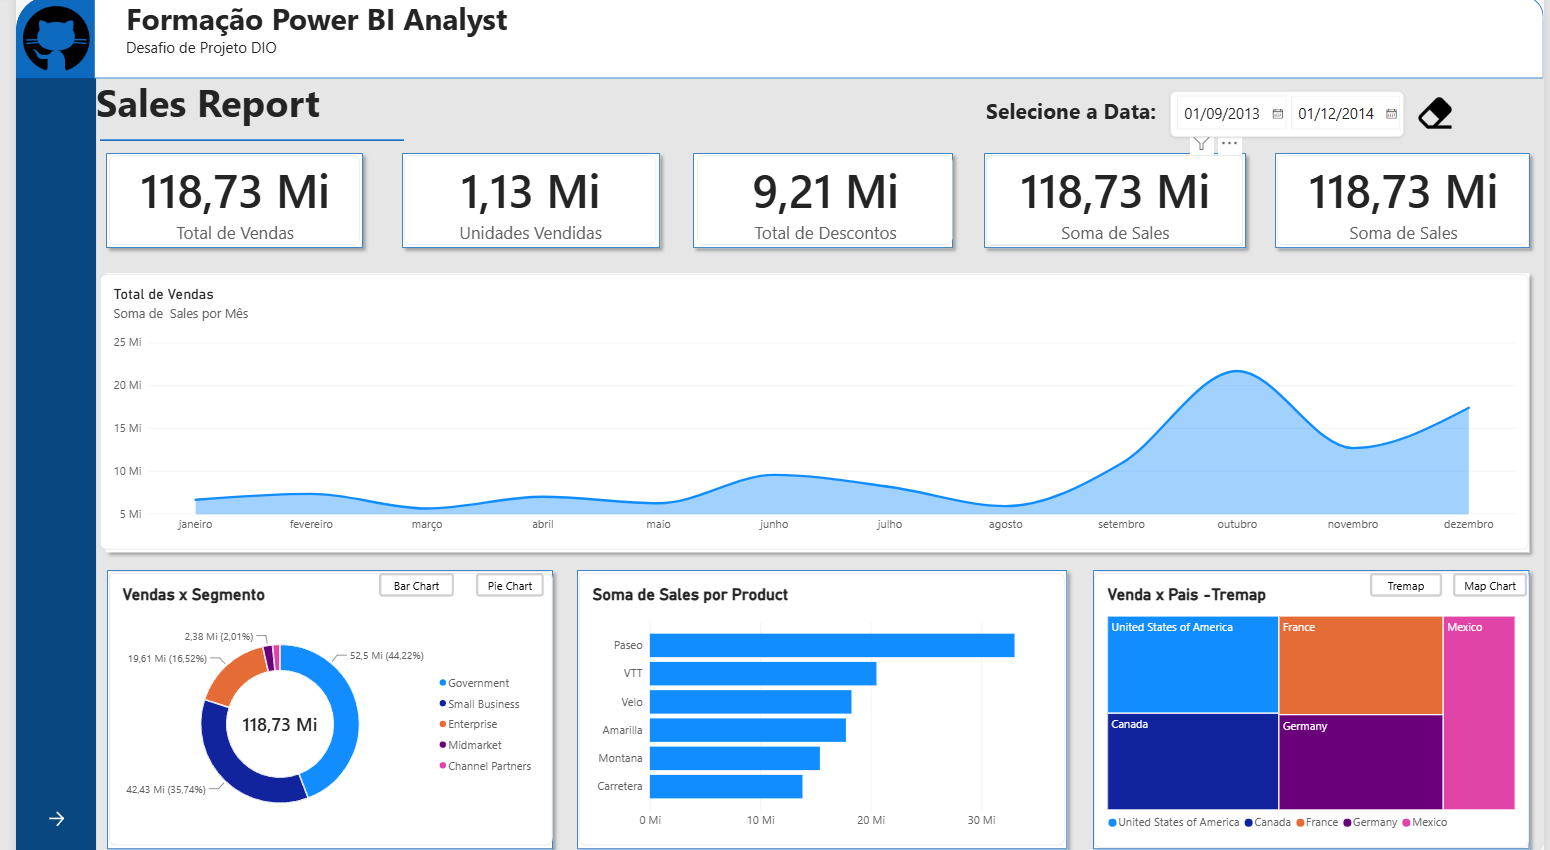

Layout of this report page (visuals, bound fields, positions):
{"tool":"powerbi","page":{"name":"Página 1","canvas":[1920,1080],"ordinal":0},"visuals":[{"type":"shape","title":"fundo","box":[0,0,1920,1080.3],"z":0},{"type":"actionButton","box":[1750.4,120.6,62.3,55.7],"z":0,"group":"g2"},{"type":"shape","box":[104,189.2,340.4,137],"z":0,"group":"g1"},{"type":"shape","box":[106.1,98.7,381.6,163.6],"z":1000},{"type":"image","box":[1757,122,50.4,51.7],"z":1000,"group":"g2"},{"type":"shape","box":[475.3,188.6,341.9,137],"z":1000,"group":"g1"},{"type":"clusteredBarChart","title":"Vendas por Segmento","fields":{"Category":["financials.Segment"],"Y":["Sum(financials. Sales)"]},"box":[116.6,722.2,556.5,341.9],"z":1000,"group":"g4"},{"type":"map","title":"Total de vendas por País","fields":{"Category":["financials.Country"],"Size":["Sum(financials. Sales)"]},"box":[1354.2,722.2,545.9,344.5],"z":1500,"group":"g3"},{"type":"treemap","title":"Venda x Pais -Tremap","fields":{"Group":["financials.Country"],"Values":["Sum(financials. Sales)"]},"box":[1354.2,725,545.9,344.5],"z":1750,"group":"g3"},{"type":"shape","title":"barra lateral","box":[0,0,100.9,1077.7],"z":2000},{"type":"slicer","fields":{"Values":["financials.Date"]},"box":[1448.3,119.3,294.2,58.3],"z":2000,"group":"g2"},{"type":"shape","box":[841.7,188.6,344.2,137.1],"z":2000,"group":"g1"},{"type":"actionButton","title":"Botão - tremap","box":[1701.4,724.6,90.6,29.8],"z":2000,"group":"g3"},{"type":"donutChart","title":"Vendas x Segmento","fields":{"Category":["financials.Segment"],"Y":["Sum(financials. Sales)"]},"box":[116.4,725,556.5,341.9],"z":2000,"group":"g4"},{"type":"actionButton","title":"Botão - pie chart","box":[577.6,725,85.4,29.8],"z":2250,"group":"g4"},{"type":"actionButton","title":"Botão - bar chart","box":[455.3,725,94.4,29.8],"z":2500,"group":"g4"},{"type":"textbox","box":[1217.7,125.9,229.2,43.7],"z":3000,"group":"g2"},{"type":"shape","box":[1206.5,188.6,346.7,137.1],"z":3000,"group":"g1"},{"type":"shape","box":[104.6,338.9,1805.1,368.4],"z":3000},{"type":"actionButton","title":"Botão - map","box":[1804.9,724.6,93.2,29.8],"z":3000,"group":"g3"},{"type":"shape","title":"logo","box":[0,0,100.9,103.5],"z":4000},{"type":"shape","box":[1572.7,188.6,337.7,137.1],"z":4000,"group":"g1"},{"type":"shape","box":[106,711.6,577.7,368.4],"z":5000},{"type":"image","box":[5.2,5.2,90.6,98.3],"z":6000},{"type":"shape","box":[695.7,711.6,633.4,368.4],"z":7000},{"type":"shape","title":"barra superior","box":[98.3,0,1820.4,103.5],"z":8000},{"type":"shape","box":[1343.6,711.6,565.8,368.4],"z":9000},{"type":"textbox","box":[138.5,2.9,481.8,97.3],"z":10000},{"type":"group","id":"g1","title":"Formas","box":[104,188.6,1806.3,137.6],"z":11000},{"type":"textbox","box":[100.2,100.2,299.1,76.6],"z":12000},{"type":"areaChart","title":"Total de Vendas","fields":{"Category":["financials.Date.Variation.Hierarquia de datas.Mês"],"Y":["Sum(financials. Sales)"]},"box":[106,348.5,1794.1,345.8],"z":13000},{"type":"cardVisual","title":"Cartão total vendas","fields":{"Data":["Sum(financials. Sales)"]},"box":[116.6,200.1,315.4,114],"z":14000},{"type":"cardVisual","fields":{"Data":["Sum(financials.Units Sold)"]},"box":[487.6,200.1,316.7,114],"z":15000},{"type":"cardVisual","fields":{"Data":["Sum(financials.Discounts)"]},"box":[854.7,200.1,322,114],"z":16000},{"type":"cardVisual","fields":{"Data":["Sum(financials. Sales)"]},"box":[1217.7,200.1,323.3,114],"z":17000},{"type":"cardVisual","fields":{"Data":["Sum(financials. Sales)"]},"box":[1583.4,200.1,316.7,114],"z":18000},{"type":"clusteredBarChart","fields":{"Category":["financials.Product"],"Y":["Sum(financials. Sales)"]},"box":[707.6,724.8,609.5,341.9],"z":19000},{"type":"group","id":"g2","title":"Filtro por data","box":[1217.7,119.3,594.9,58.3],"z":20000},{"type":"actionButton","box":[27.2,1013,45.3,40.1],"z":21000},{"type":"group","id":"g3","title":"Vendas x País","box":[1354.2,722.2,546,347.3],"z":26000},{"type":"group","id":"g4","title":"Vendas x Segmento","box":[116.4,722.2,556.7,344.7],"z":27000}]}

Visuals, with their boxes on the page's 1920x1080 design canvas (x1, y1, x2, y2). These are canvas units, not pixel positions in the 1550x850 screenshot, which may show the page scaled, cropped or inside an application window:
"fundo" shape: rect(0, 0, 1920, 1080)
actionButton: rect(1750, 121, 1813, 176)
shape: rect(104, 189, 444, 326)
shape: rect(106, 99, 488, 262)
image: rect(1757, 122, 1807, 174)
shape: rect(475, 189, 817, 326)
"Vendas por Segmento" clusteredBarChart: rect(117, 722, 673, 1064)
"Total de vendas por País" map: rect(1354, 722, 1900, 1067)
"Venda x Pais -Tremap" treemap: rect(1354, 725, 1900, 1070)
"barra lateral" shape: rect(0, 0, 101, 1078)
slicer - financials.Date: rect(1448, 119, 1742, 178)
shape: rect(842, 189, 1186, 326)
"Botão - tremap" actionButton: rect(1701, 725, 1792, 754)
"Vendas x Segmento" donutChart: rect(116, 725, 673, 1067)
"Botão - pie chart" actionButton: rect(578, 725, 663, 755)
"Botão - bar chart" actionButton: rect(455, 725, 550, 755)
textbox: rect(1218, 126, 1447, 170)
shape: rect(1206, 189, 1553, 326)
shape: rect(105, 339, 1910, 707)
"Botão - map" actionButton: rect(1805, 725, 1898, 754)
"logo" shape: rect(0, 0, 101, 104)
shape: rect(1573, 189, 1910, 326)
shape: rect(106, 712, 684, 1080)
image: rect(5, 5, 96, 104)
shape: rect(696, 712, 1329, 1080)
"barra superior" shape: rect(98, 0, 1919, 104)
shape: rect(1344, 712, 1909, 1080)
textbox: rect(138, 3, 620, 100)
"Formas" group: rect(104, 189, 1910, 326)
textbox: rect(100, 100, 399, 177)
"Total de Vendas" areaChart: rect(106, 348, 1900, 694)
"Cartão total vendas" cardVisual: rect(117, 200, 432, 314)
cardVisual - Sum(financials.Units Sold): rect(488, 200, 804, 314)
cardVisual - Sum(financials.Discounts): rect(855, 200, 1177, 314)
cardVisual - Sum(financials. Sales): rect(1218, 200, 1541, 314)
cardVisual - Sum(financials. Sales): rect(1583, 200, 1900, 314)
clusteredBarChart - financials.Product x Sum(financials. Sales): rect(708, 725, 1317, 1067)
"Filtro por data" group: rect(1218, 119, 1813, 178)
actionButton: rect(27, 1013, 72, 1053)
"Vendas x País" group: rect(1354, 722, 1900, 1070)
"Vendas x Segmento" group: rect(116, 722, 673, 1067)
